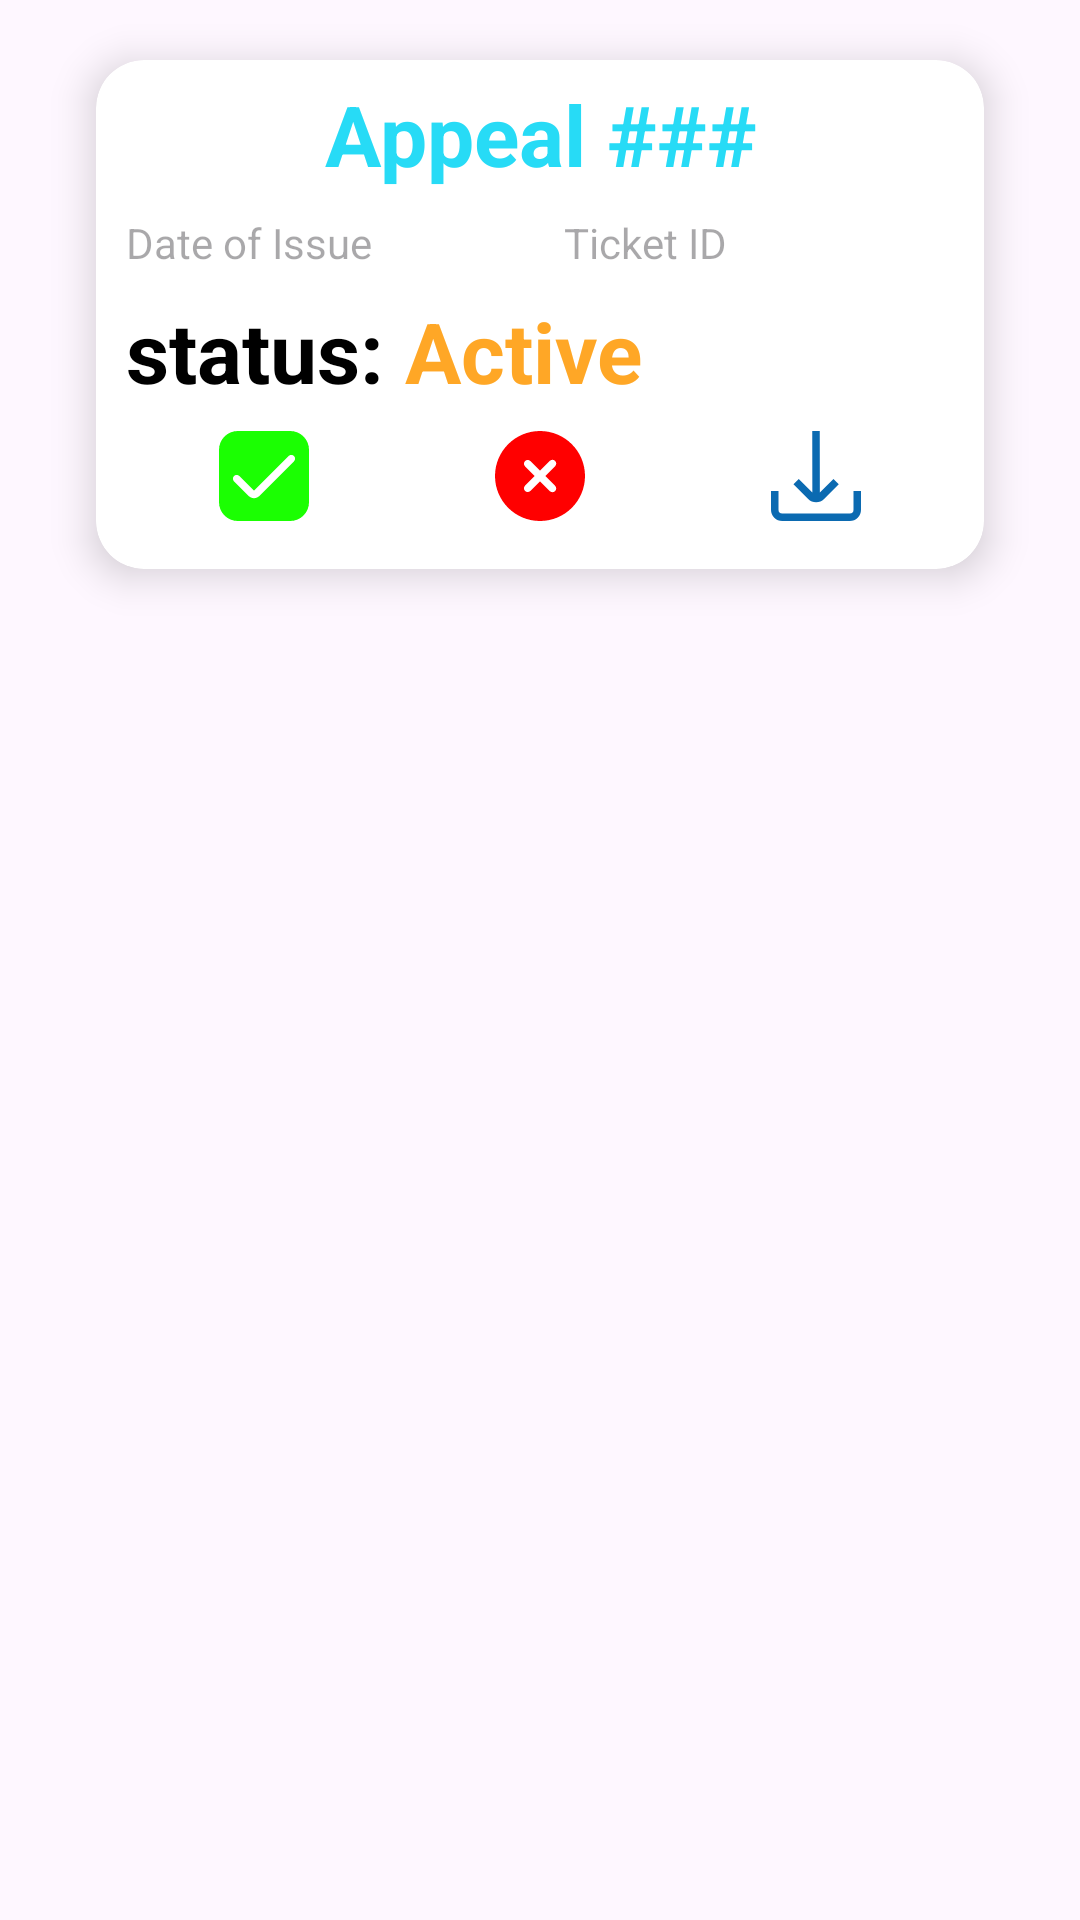

Where to tap for icons on this 1080px×1920px app screen, as (x,y):
approve: (264,476)
decline: (540,476)
download: (816,476)
